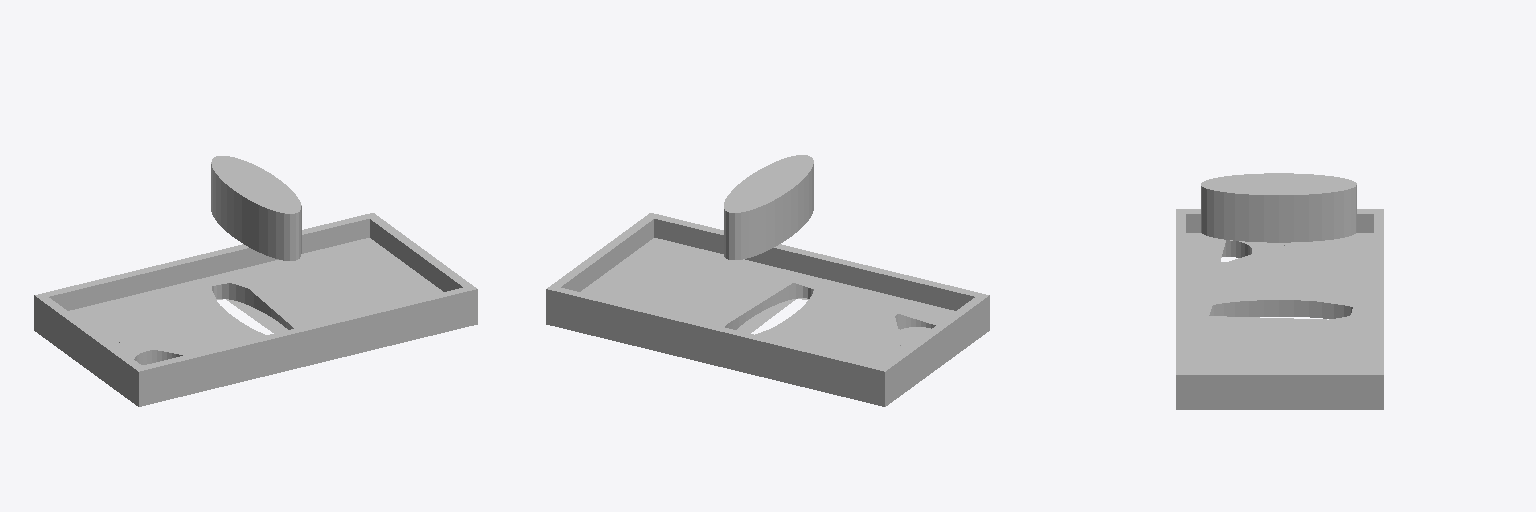
File: lvl1.obj
3 renders of one model, left to right at view 1: azimuth 30°, elevation 25°; view 2: azimuth 150°, elevation 25°; view 3: azimuth 270°, elevation 25°, orthographic.
Visible parts, largest first — view 1: Cube, Cylinder; view 2: Cube, Cylinder; view 3: Cube, Cylinder.
Part boxes in pixels (bbox=[...]): Cube: bbox=[34, 213, 477, 406]; Cylinder: bbox=[211, 156, 301, 260]; Cube: bbox=[546, 213, 989, 406]; Cylinder: bbox=[724, 155, 813, 259]; Cube: bbox=[1176, 209, 1383, 409]; Cylinder: bbox=[1201, 173, 1356, 242].
Size of the model in its own units: 3 by 1.21 by 1.6.